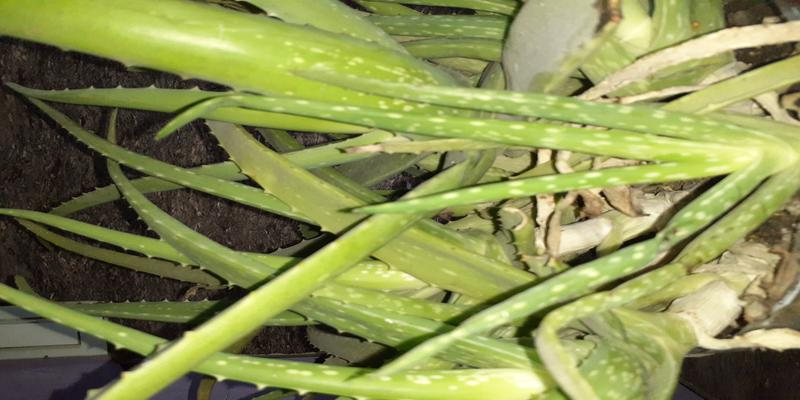Aloevera: (165, 10, 790, 370)
